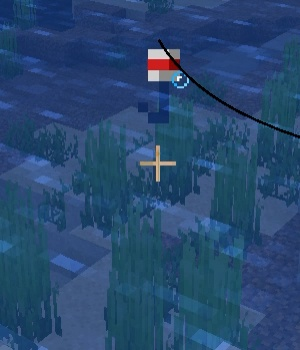up: (137, 49, 185, 132)
